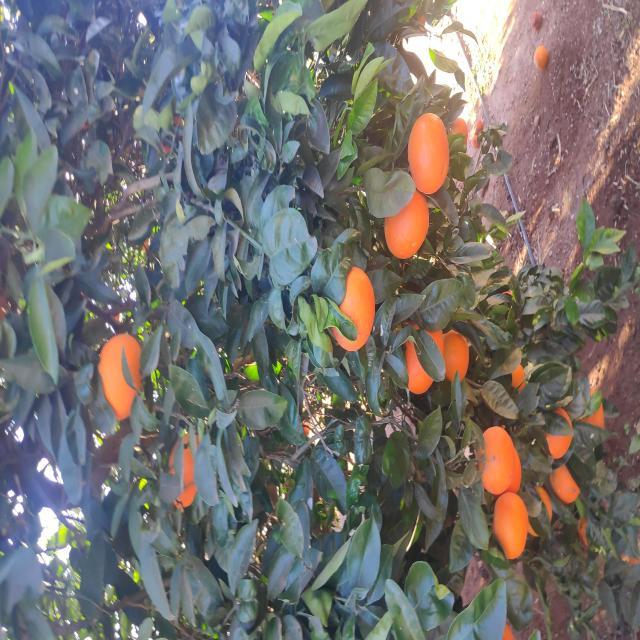Jeruk Sudah Matang: (288, 330, 376, 373), (224, 99, 306, 140), (445, 408, 526, 449), (383, 386, 451, 430), (249, 406, 315, 444), (130, 169, 215, 197), (146, 480, 217, 513), (82, 493, 146, 527), (256, 439, 314, 471), (104, 524, 154, 552), (183, 548, 232, 572), (141, 550, 173, 579), (145, 504, 195, 520), (497, 450, 521, 468), (246, 513, 276, 527), (574, 534, 596, 548)
